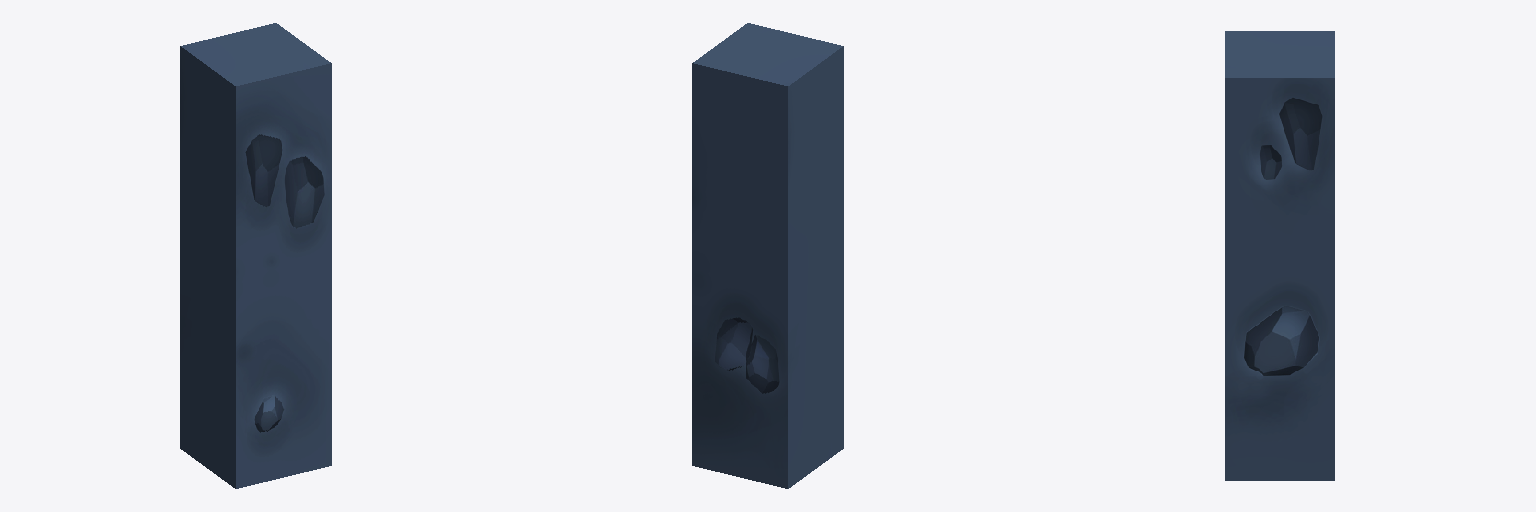
3 views of the same model, side by side, from view 1: azimuth 30°, elevation 25°; view 2: azimuth 150°, elevation 25°; view 3: azimuth 270°, elevation 25° (orthographic).
Parts seen in each view (by area): view 1: WallStone; view 2: WallStone; view 3: WallStone.
Boxes of the visible parts, <box> form: WallStone: <box>180,23,331,488</box>; WallStone: <box>692,23,843,488</box>; WallStone: <box>1225,31,1334,480</box>.
Bounding box in the file's own units: 5.01 × 20.15 × 5.01.
Materials: 1 (1 with a texture image).